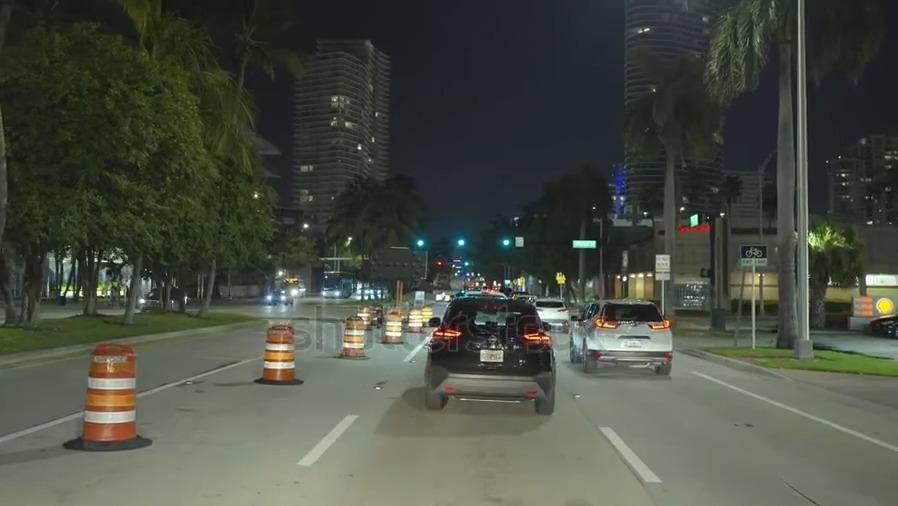bus: (320, 268, 354, 298), (281, 274, 307, 300)
car: (427, 297, 552, 408), (577, 299, 675, 377), (534, 293, 570, 335), (137, 283, 189, 311), (873, 310, 898, 337), (264, 288, 294, 307)
cone: (82, 341, 137, 438), (257, 319, 297, 379), (341, 311, 363, 358), (382, 306, 403, 344), (406, 307, 420, 335), (358, 303, 371, 329), (421, 304, 434, 323)
traffic light: (451, 228, 472, 262), (409, 228, 429, 258), (493, 231, 515, 257)
